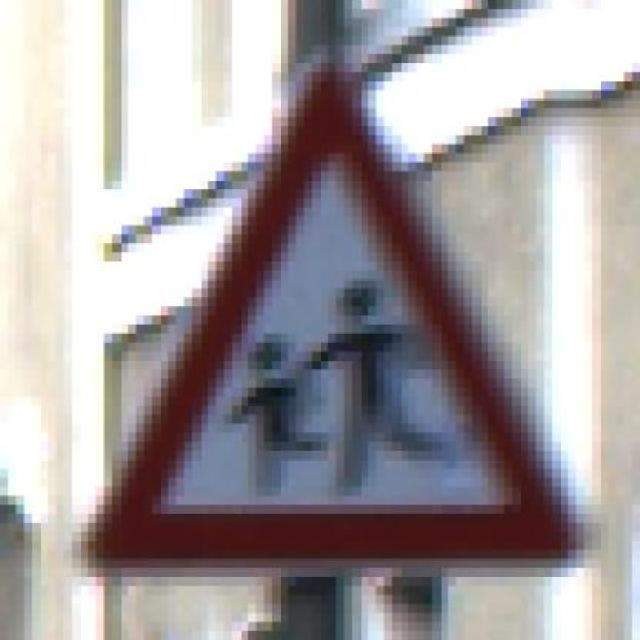Beware of children: (48, 54, 600, 586)
